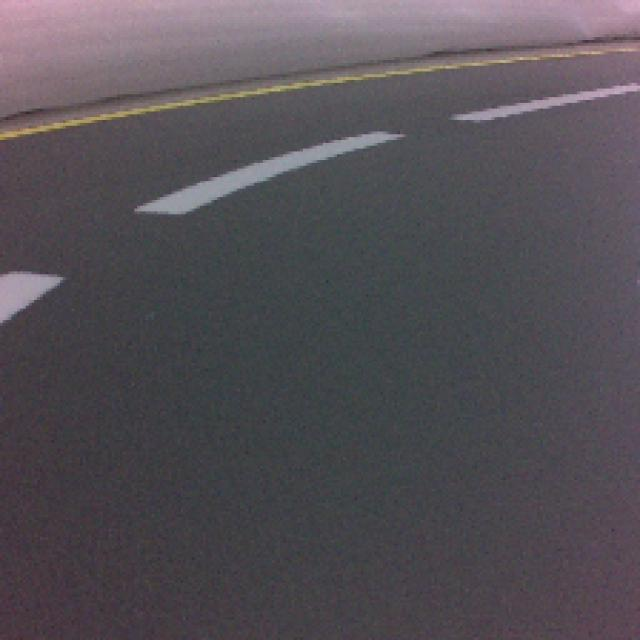Road: (0, 384, 640, 640)
